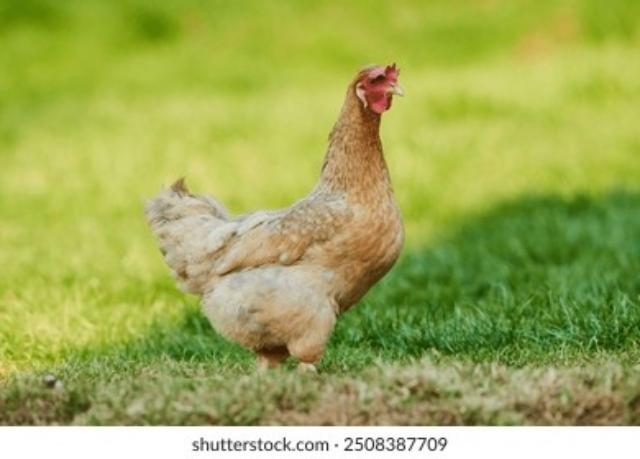Chicken: (151, 60, 405, 374)
